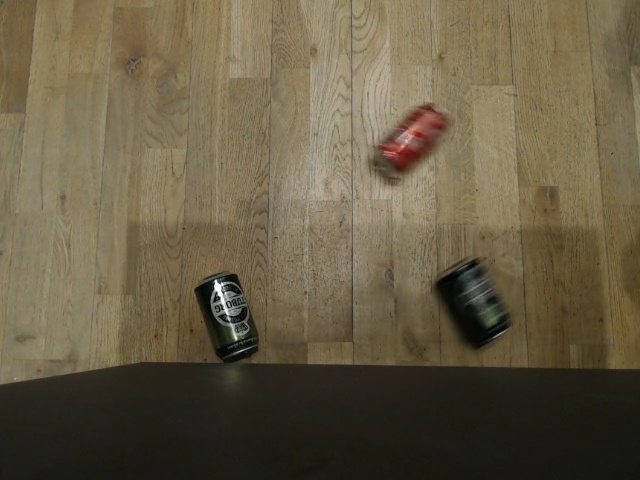beer: (434, 254, 511, 348), (196, 269, 259, 358)
cola: (373, 104, 449, 177)
